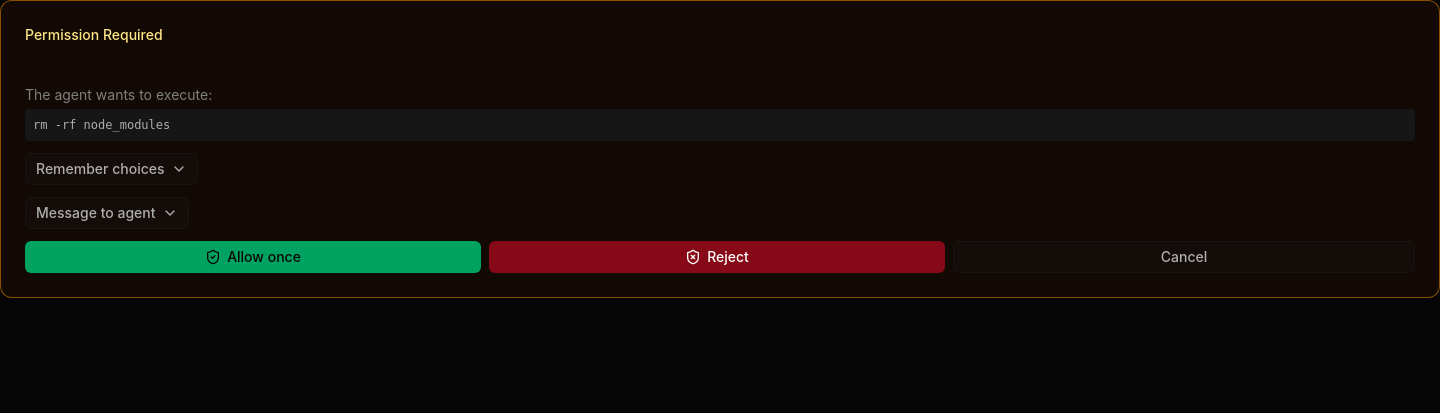
Scenario: ActivityApproval › remember choices panel › does not show segments until the panel is expanded
The image size is (1440, 413).
Click the button "Remember choices" at (111, 169), box top-left (25, 153), bottom-right (198, 185)
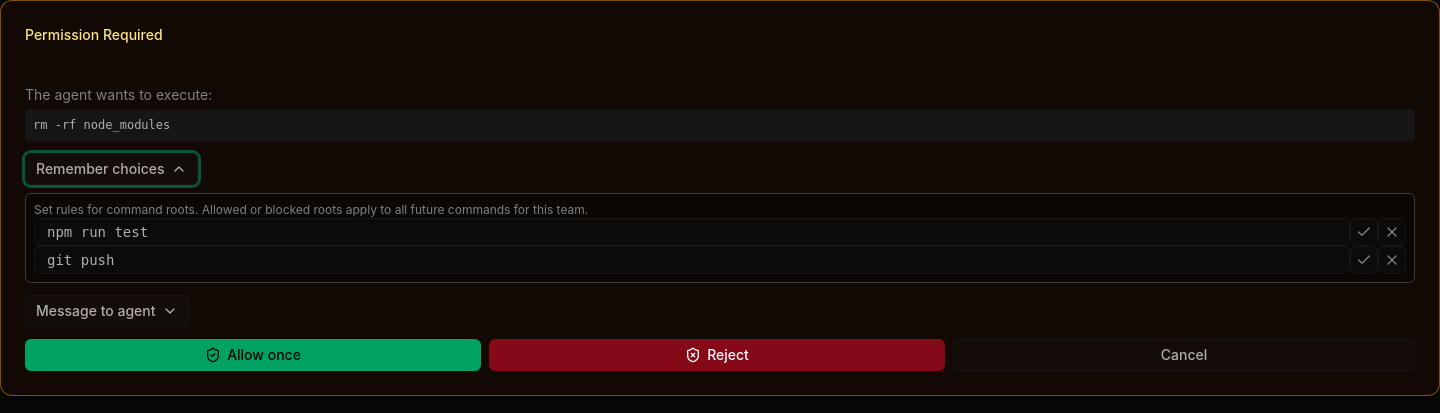
Now the field named "Command root: npm run test" is shown, box top-left (34, 218), bottom-right (1350, 246)
Now the field named "Command root: git push" is shown, box top-left (34, 246), bottom-right (1350, 274)
